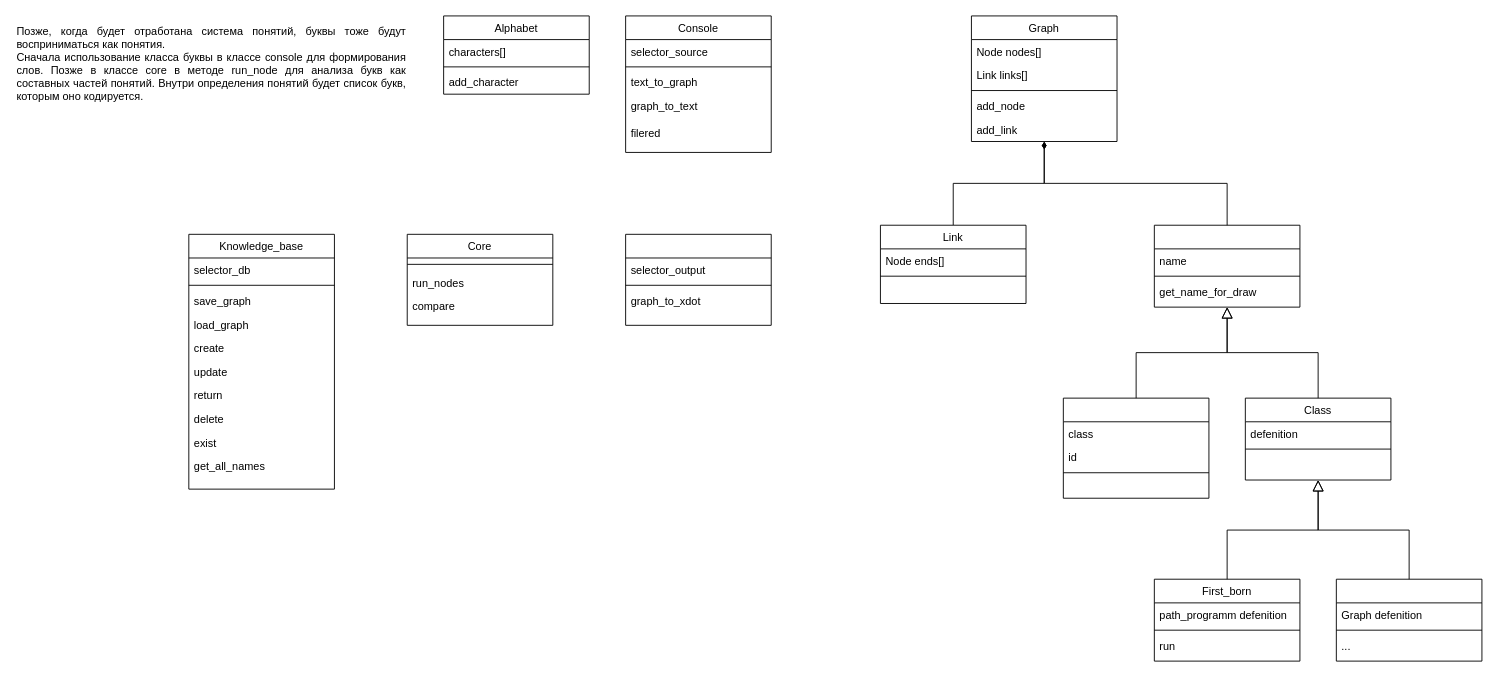
The diagram is 1498 pixels wide and 677 high, and some of its shapes have lost their labels. The box of each missing label's shape, as (x1, y1, x2, y2) in pixels:
Drawer: (625, 233, 771, 325)
Node: (1153, 224, 1300, 307)
Object: (1062, 397, 1209, 498)
Second_born: (1335, 578, 1482, 661)
